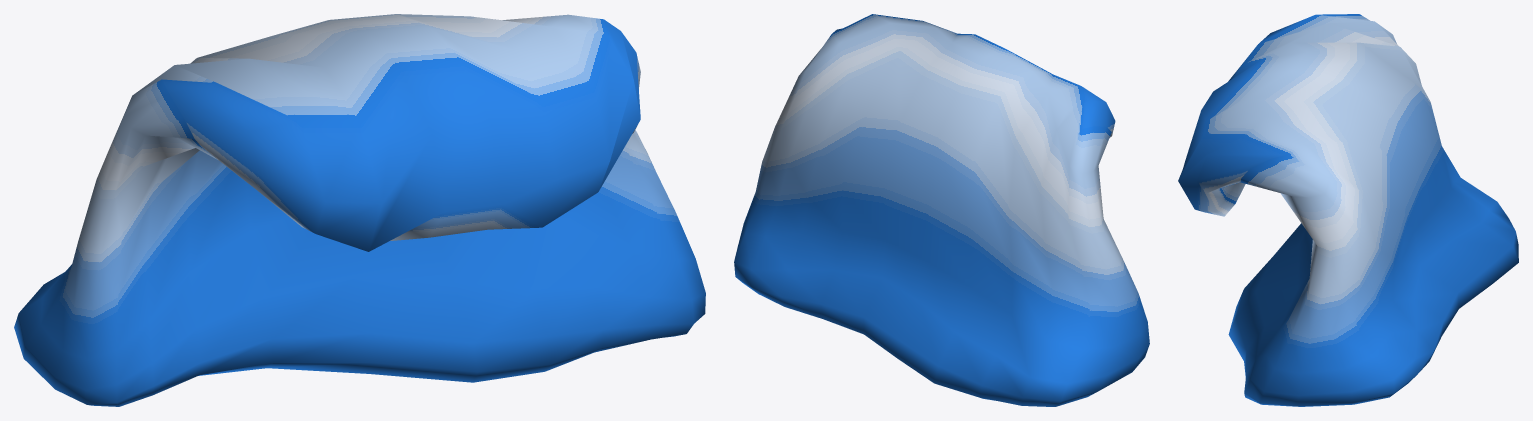
File: Tidalwave.FBX
3 renders of one model, left to right at view 1: azimuth 30°, elevation 25°; view 2: azimuth 150°, elevation 25°; view 3: azimuth 270°, elevation 25°, orthographic. The views are drawn at different scales.
Visible parts, largest first — view 1: Box001; view 2: Box001; view 3: Box001.
Boxes of the visible parts, box(x1,y1,x2,y2) form: Box001: box(14, 14, 705, 406); Box001: box(734, 14, 1149, 406); Box001: box(1178, 14, 1518, 406).
Bounding box in the file's own units: 63.01 × 43.85 × 35.41.
1 material, 1 textured.
